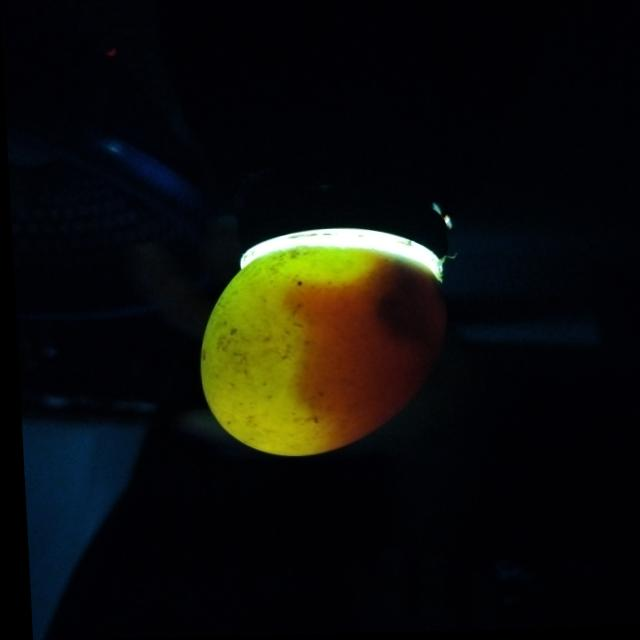Area Infectada: (375, 260, 445, 354)
